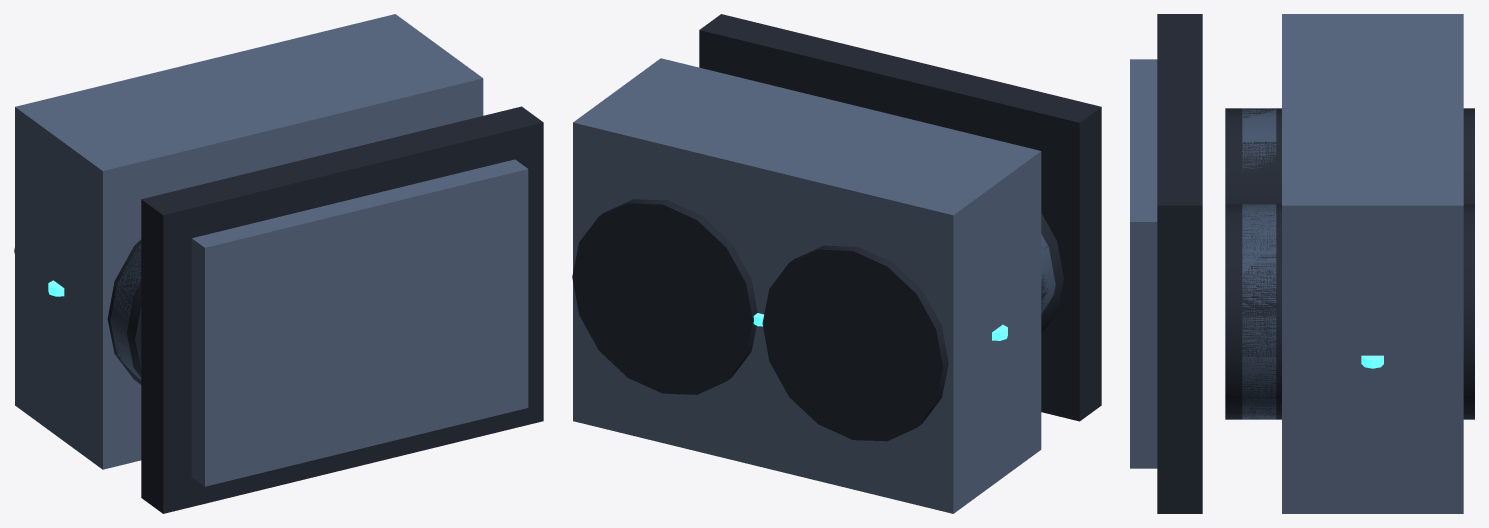
The model's file is mod_popa.fbx.
The picture shows the model from 3 angles, left to right: view 1: azimuth 30°, elevation 25°; view 2: azimuth 150°, elevation 25°; view 3: azimuth 270°, elevation 25°; orthographic projection. The views are drawn at different scales.
Parts seen in each view (by area): view 1: Popa; view 2: Popa; view 3: Popa.
Boxes of the visible parts, box(x1,y1,x2,y2) form: Popa: box(14, 14, 543, 513); Popa: box(572, 14, 1101, 513); Popa: box(1130, 14, 1474, 513).
Size of the model in its own units: 1.18 by 0.84 by 0.8512.
